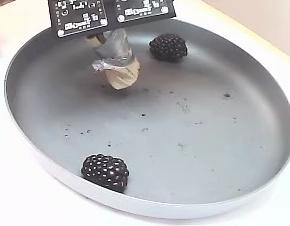berry: (81, 154, 128, 192), (149, 34, 187, 61)
